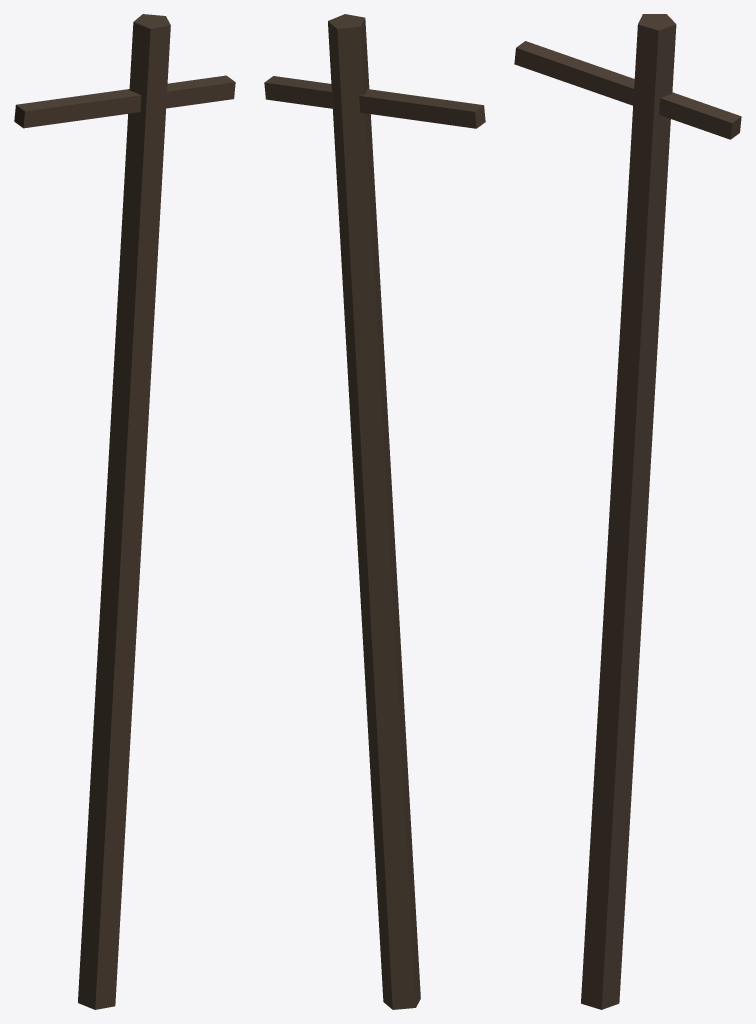
File: bg_wasteland_pole_1_lod1.glb
3 renders of one model, left to right at view 1: azimuth 30°, elevation 25°; view 2: azimuth 150°, elevation 25°; view 3: azimuth 330°, elevation 25°, orthographic. The views are drawn at different scales.
Parts seen in each view (by area): view 1: body; view 2: body; view 3: body.
Part boxes in pixels (x1,y1,x2,y2): body: [14, 14, 235, 1009]; body: [264, 14, 485, 1009]; body: [514, 14, 741, 1009].
Bounding box in the file's own units: 1.6 × 7 × 0.2352.
